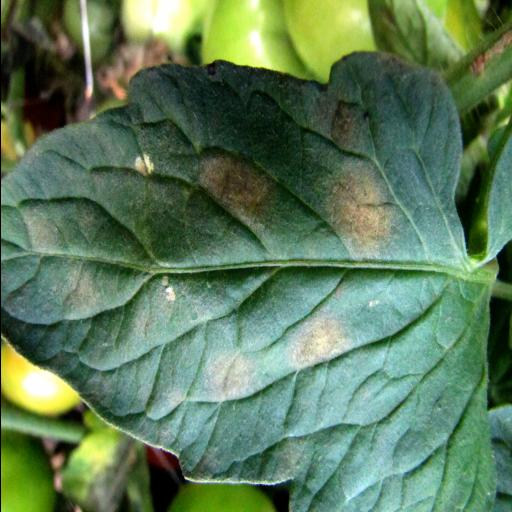disease_tomato: (0, 50, 497, 511)
